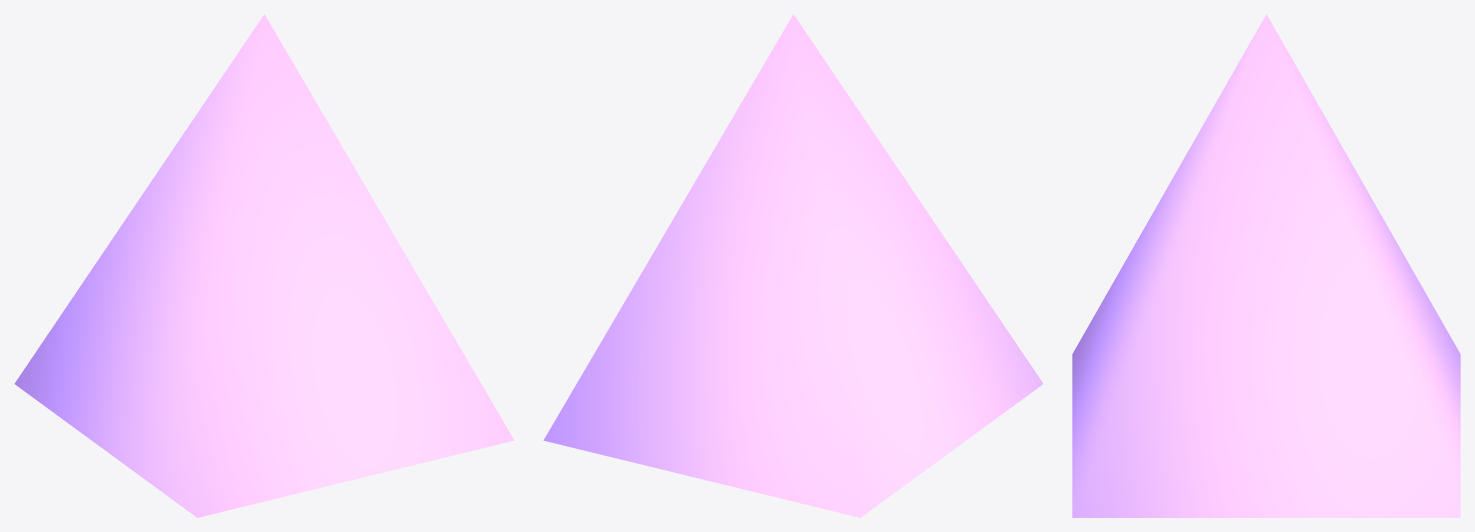
Rendered from brightline-beacon.gltf.
3 renders of one model, left to right at view 1: azimuth 30°, elevation 25°; view 2: azimuth 150°, elevation 25°; view 3: azimuth 270°, elevation 25°, orthographic. The views are drawn at different scales.
Visible parts, largest first — view 1: Brightline Beacon; view 2: Brightline Beacon; view 3: Brightline Beacon.
Part boxes in pixels (x1,y1,x2,y2): Brightline Beacon: (14, 14, 514, 517); Brightline Beacon: (543, 14, 1043, 517); Brightline Beacon: (1072, 14, 1460, 517).
Bounding box in the file's own units: 2 × 2.4 × 2.
